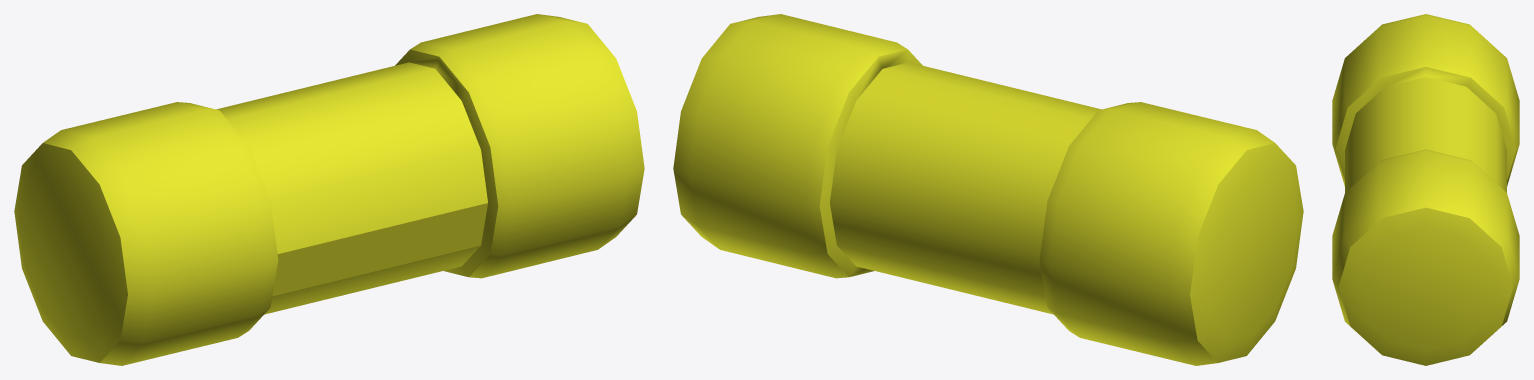
File: Fusible_Low_Model.FBX
3 renders of one model, left to right at view 1: azimuth 30°, elevation 25°; view 2: azimuth 150°, elevation 25°; view 3: azimuth 270°, elevation 25°, orthographic. The views are drawn at different scales.
Visible parts, largest first — view 1: Fusible_Low_Model; view 2: Fusible_Low_Model; view 3: Fusible_Low_Model.
Part boxes in pixels (x1,y1,x2,y2): Fusible_Low_Model: [14, 14, 644, 365]; Fusible_Low_Model: [673, 14, 1303, 365]; Fusible_Low_Model: [1332, 14, 1519, 365].
Size of the model in its own units: 27.84 by 11.08 by 11.07.
